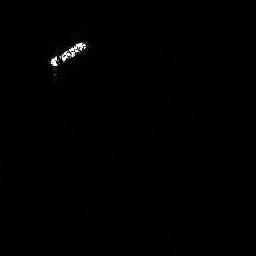ship: (50, 40, 86, 66)
